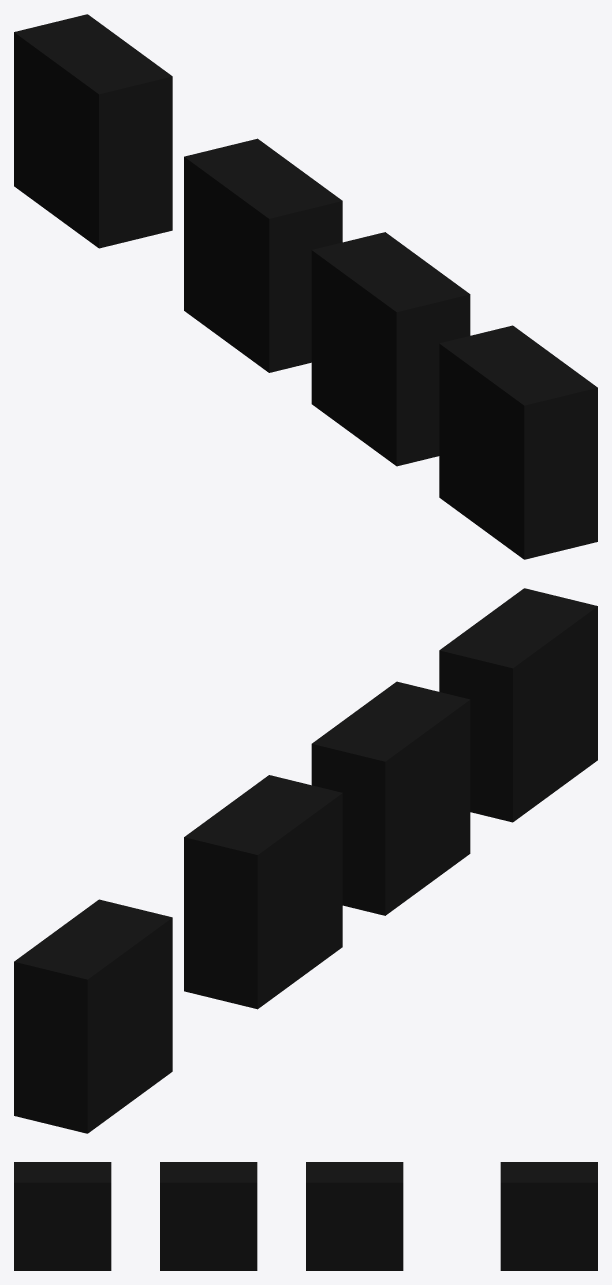
Rendered from Bot -4.obj.
3 views of the same model, one above another, from view 1: azimuth 30°, elevation 25°; view 2: azimuth 150°, elevation 25°; view 3: azimuth 270°, elevation 25° (orthographic). The views are drawn at different scales.
Parts seen in each view (by area): view 1: Bot -4; view 2: Bot -4; view 3: Bot -4.
Part boxes in pixels (x1=…): Bot -4: x1=14, y1=14, x2=597, y2=559; Bot -4: x1=14, y1=588, x2=597, y2=1133; Bot -4: x1=14, y1=1162, x2=597, y2=1270.
Size of the model in its own units: 1 by 2 by 12.
1 material, 1 textured.
